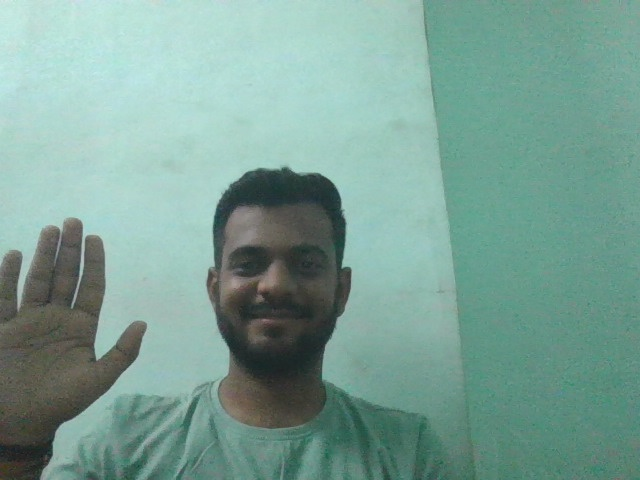hello: (2, 201, 166, 437)
